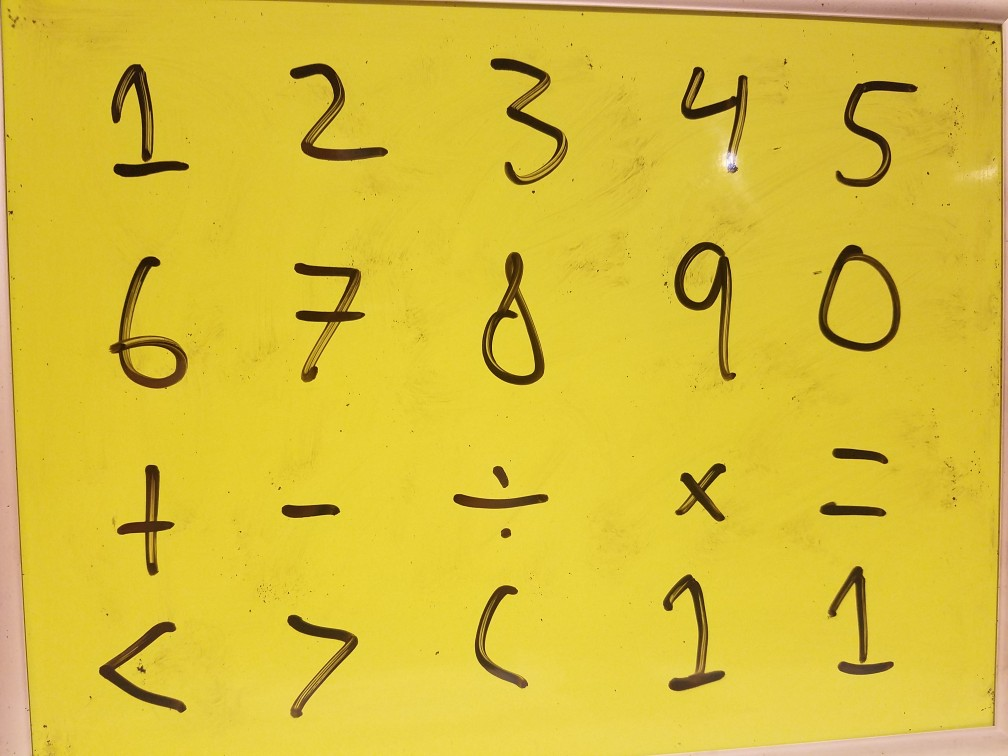(: (466, 574, 547, 715)
+: (104, 452, 192, 579)
-: (266, 485, 352, 538)
0: (803, 233, 918, 370)
1: (94, 50, 191, 189), (816, 564, 913, 692), (654, 569, 742, 703)
2: (280, 57, 405, 182)
3: (487, 52, 576, 197)
4: (657, 57, 763, 188)
5: (818, 64, 926, 203)
6: (100, 252, 211, 403)
7: (270, 241, 377, 407)
8: (466, 242, 580, 395)
9: (664, 232, 763, 389)
<: (99, 609, 192, 720)
=: (803, 429, 906, 532)
>: (277, 598, 370, 727)
div: (445, 451, 562, 548)
x: (658, 445, 739, 534)
